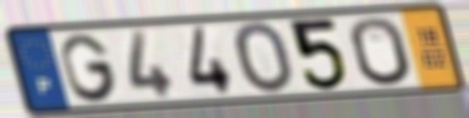4: (127, 27, 178, 101), (187, 24, 235, 98)
5: (283, 15, 352, 93)
G: (58, 31, 121, 104)
O: (230, 19, 297, 97), (346, 14, 416, 88)
